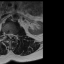CCS_normal: (9, 30, 11, 40)
LFS_stenosis: (13, 32, 15, 38)
LLS_normal: (11, 31, 13, 38)
RFS_normal: (5, 31, 7, 37)
RLS_normal: (7, 31, 9, 37)
